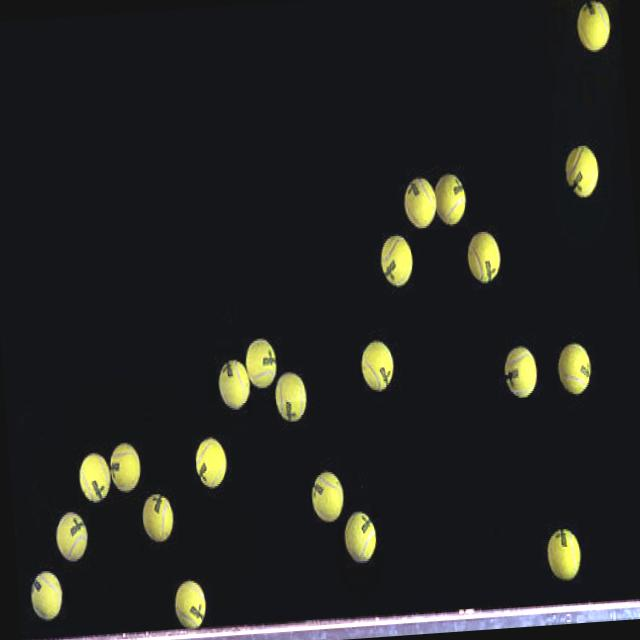Tennis Ball: (467, 231, 502, 285), (547, 528, 582, 582), (557, 344, 592, 397), (379, 235, 413, 289), (311, 472, 345, 525), (217, 360, 252, 411), (55, 513, 89, 565), (361, 341, 395, 393), (141, 494, 175, 545), (577, 2, 611, 53), (565, 147, 598, 199), (403, 178, 436, 230), (505, 347, 537, 400), (195, 438, 228, 489), (174, 581, 207, 632), (344, 513, 376, 565), (275, 373, 308, 423), (434, 174, 466, 225), (31, 573, 63, 623), (245, 338, 276, 389), (109, 443, 140, 494), (79, 454, 110, 502)
